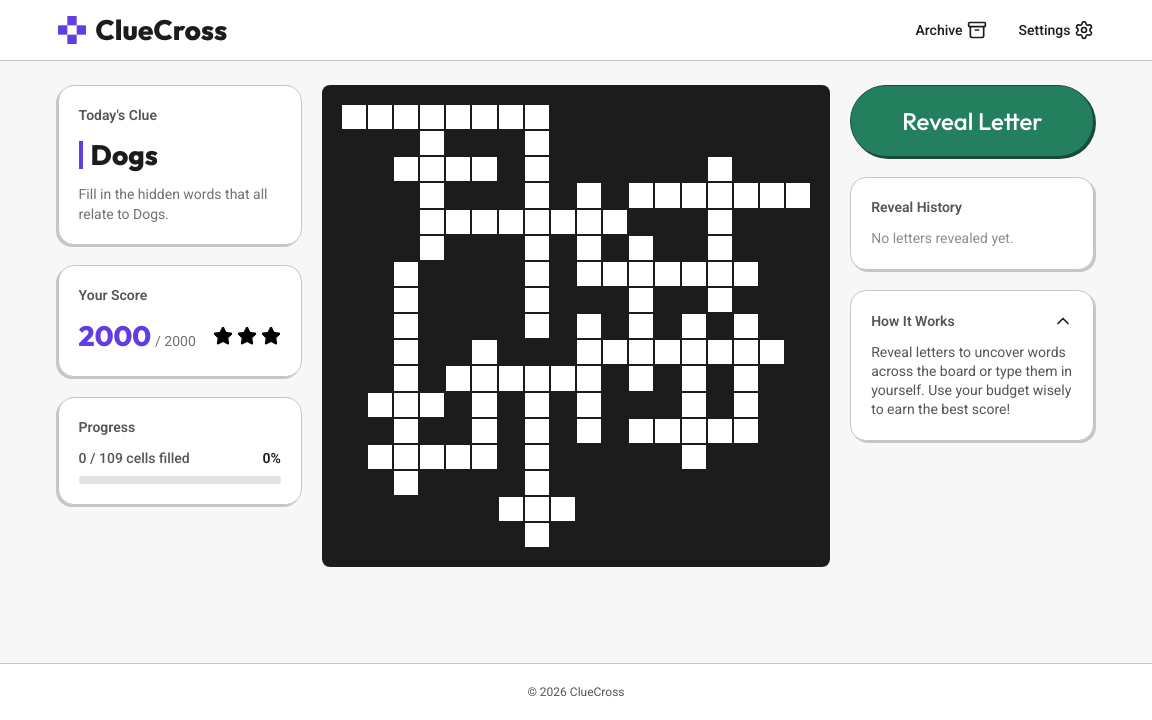
Test: Archive › clicking Archive shows the calendar in the center column, leaving the clue card visible
The width and height of the screenshot is (1152, 720).
Check: the heading "Today's Clue Dogs" is shown, box [79,106,281,169]
Click the button "Archive": (951, 30) [916,20,987,40]
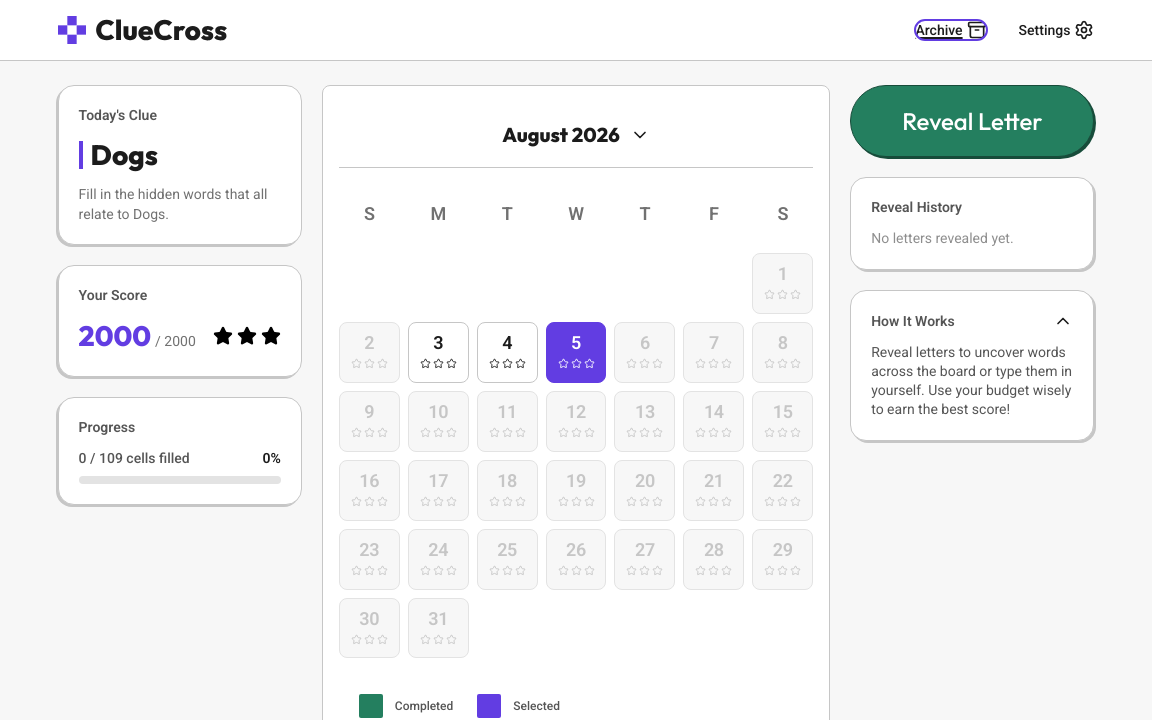
Check: the heading "Today's Clue Dogs" is shown, box [79,106,281,169]
Check: the element named "puzzle calendar for august 2026" is shown, box [339,168,813,674]
